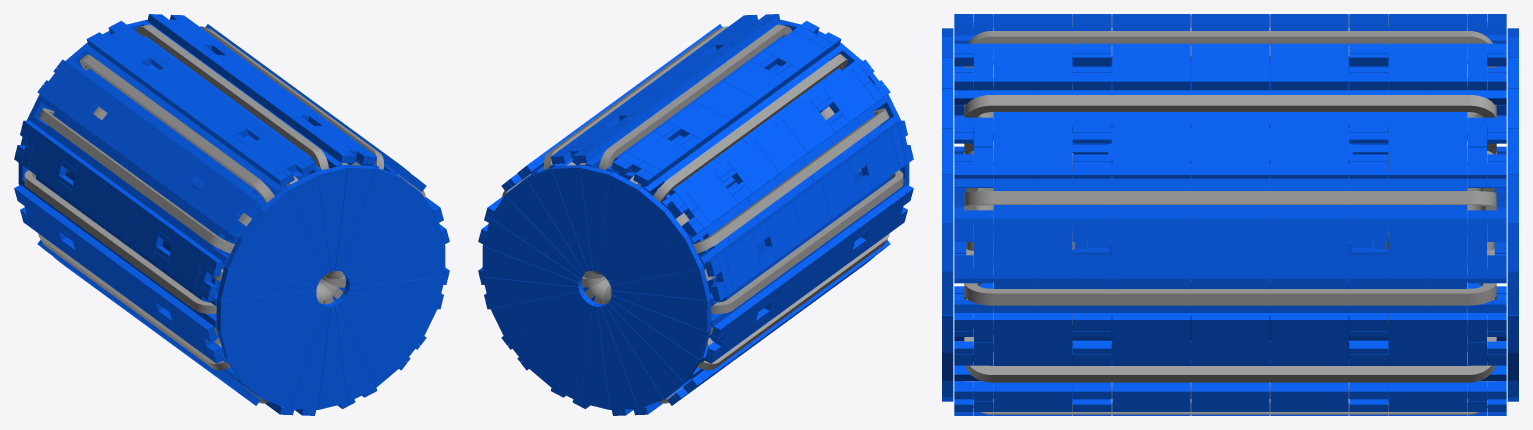
Rendered from chambers-and-coils.obj.
3 renders of one model, left to right at view 1: azimuth 30°, elevation 25°; view 2: azimuth 150°, elevation 25°; view 3: azimuth 270°, elevation 25°, orthographic. The views are drawn at different scales.
Visible parts, largest first — view 1: coil_barrel_06, coil_barrel_03, coil_barrel_04, coil_barrel_05, chamber_EP3_REFINED_FULL_S10, chamber_EP3_REFINED_FULL_S11, chamber_EP3_REFINED_FULL_S08, chamber_EP3_REFINED_FULL_S12, chamber_EP3_REFINED_FULL_S07, chamber_EP3_REFINED_FULL_S09, chamber_EP3_REFINED_FULL_S06, chamber_EP3_REFINED_FULL_S13 (+53 smaller); view 2: coil_barrel_06, coil_barrel_03, coil_barrel_04, coil_barrel_05, chamber_EM3_REFINED_FULL_S10, chamber_EM3_REFINED_FULL_S11, chamber_EM3_REFINED_FULL_S08, chamber_EM3_REFINED_FULL_S12, chamber_EM3_REFINED_FULL_S07, chamber_EM3_REFINED_FULL_S09, chamber_EM3_REFINED_FULL_S06, chamber_EM3_REFINED_FULL_S13 (+53 smaller); view 3: coil_barrel_02, coil_barrel_00, coil_barrel_11, coil_barrel_01, coil_barrel_03, chamber_B3_F01_Z00_z1_MERGED, chamber_B3_F01_Z05_z1_MERGED, chamber_B3_F01_Z02, chamber_B3_F01_Z03, chamber_B3_F01_Z04, chamber_B3_F03_Z00_z1_MERGED, chamber_B3_F03_Z05_z1_MERGED (+79 smaller).
Part boxes in pixels (left/top/right/bottom): coil_barrel_06: left=24, top=170, right=216, bottom=313; coil_barrel_03: left=136, top=24, right=328, bottom=170; coil_barrel_04: left=80, top=54, right=274, bottom=202; coil_barrel_05: left=38, top=108, right=234, bottom=253; chamber_EP3_REFINED_FULL_S10: left=225, top=236, right=319, bottom=285; chamber_EP3_REFINED_FULL_S11: left=217, top=266, right=317, bottom=300; chamber_EP3_REFINED_FULL_S08: left=260, top=187, right=325, bottom=276; chamber_EP3_REFINED_FULL_S12: left=216, top=290, right=316, bottom=331; chamber_EP3_REFINED_FULL_S07: left=286, top=172, right=330, bottom=273; chamber_EP3_REFINED_FULL_S09: left=239, top=209, right=322, bottom=280; chamber_EP3_REFINED_FULL_S06: left=314, top=165, right=347, bottom=271; chamber_EP3_REFINED_FULL_S13: left=217, top=295, right=316, bottom=359; coil_barrel_06: left=711, top=170, right=903, bottom=313; coil_barrel_03: left=599, top=24, right=791, bottom=170; coil_barrel_04: left=653, top=54, right=847, bottom=202; coil_barrel_05: left=693, top=108, right=889, bottom=253; chamber_EM3_REFINED_FULL_S10: left=608, top=236, right=702, bottom=285; chamber_EM3_REFINED_FULL_S11: left=610, top=266, right=710, bottom=300; chamber_EM3_REFINED_FULL_S08: left=602, top=187, right=667, bottom=276; chamber_EM3_REFINED_FULL_S12: left=611, top=290, right=711, bottom=331; chamber_EM3_REFINED_FULL_S07: left=597, top=172, right=641, bottom=273; chamber_EM3_REFINED_FULL_S09: left=605, top=209, right=688, bottom=280; chamber_EM3_REFINED_FULL_S06: left=580, top=165, right=613, bottom=271; chamber_EM3_REFINED_FULL_S13: left=611, top=295, right=710, bottom=359; coil_barrel_02: left=964, top=95, right=1496, bottom=154; coil_barrel_00: left=964, top=252, right=1496, bottom=305; coil_barrel_11: left=964, top=306, right=1496, bottom=382; coil_barrel_01: left=964, top=191, right=1496, bottom=212; coil_barrel_03: left=964, top=31, right=1496, bottom=130; chamber_B3_F01_Z00_z1_MERGED: left=1388, top=218, right=1467, bottom=278; chamber_B3_F01_Z05_z1_MERGED: left=993, top=218, right=1072, bottom=278; chamber_B3_F01_Z02: left=1270, top=218, right=1348, bottom=278; chamber_B3_F01_Z03: left=1191, top=218, right=1269, bottom=278; chamber_B3_F01_Z04: left=1112, top=218, right=1190, bottom=278; chamber_B3_F03_Z00_z1_MERGED: left=1388, top=119, right=1467, bottom=178; chamber_B3_F03_Z05_z1_MERGED: left=993, top=119, right=1072, bottom=178.
Bounding box in the file's own units: 18.1 × 18.1 × 26.1.
